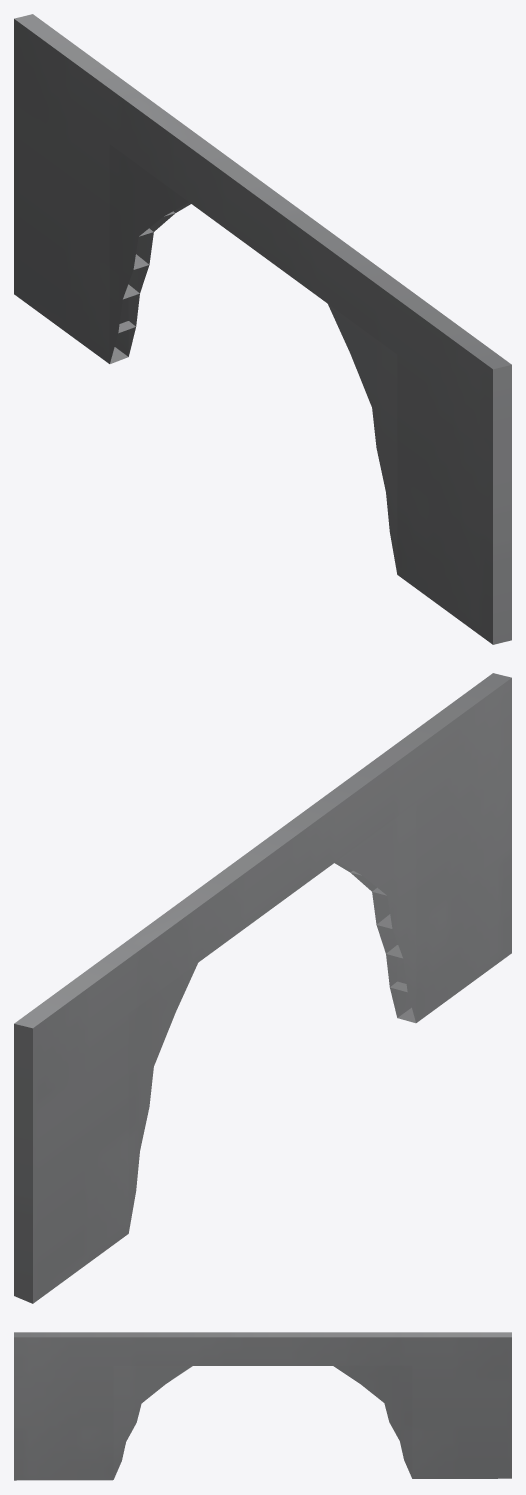
Rendered from pared puerta blindada.fbx.
3 views of the same model, one above another, from view 1: azimuth 30°, elevation 25°; view 2: azimuth 150°, elevation 25°; view 3: azimuth 270°, elevation 25° (orthographic). The views are drawn at different scales.
Visible parts, largest first — view 1: Cube; view 2: Cube; view 3: Cube.
Boxes of the visible parts, left/top/right/bottom form: Cube: left=14, top=14, right=511, bottom=644; Cube: left=14, top=673, right=511, bottom=1303; Cube: left=14, top=1332, right=511, bottom=1480.
Size of the model in its own units: 133 by 1850 by 5830.
1 material, 1 textured.
